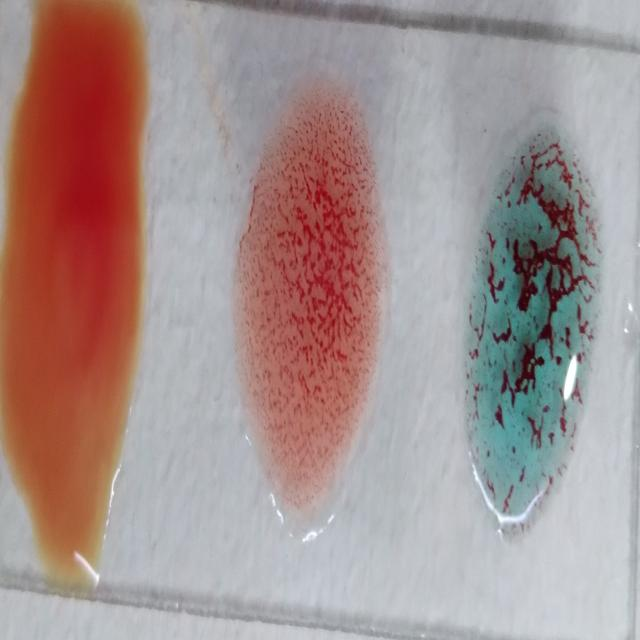A: (460, 140, 594, 542)
D: (240, 116, 379, 529)
